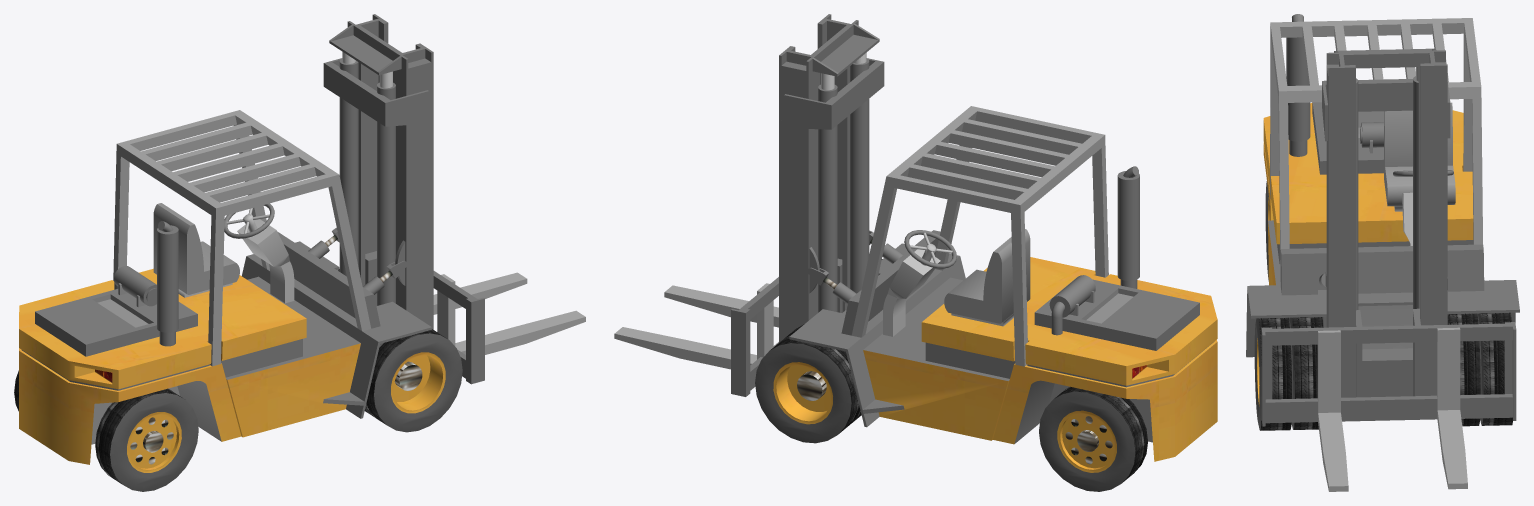
Rendered from forklift.glb.
The picture shows the model from 3 angles, left to right: view 1: azimuth 30°, elevation 25°; view 2: azimuth 150°, elevation 25°; view 3: azimuth 270°, elevation 25°; orthographic projection. The views are drawn at different scales.
Visible parts, largest first — view 1: Geom3D_5, Geom3D_6, Geom3D_17, Geom3D_7, Geom3D_24, Geom3D_12, Geom3D_18, Geom3D_4, Geom3D_23, Geom3D_10, Geom3D_11, Geom3D_25; view 2: Geom3D_5, Geom3D_6, Geom3D_17, Geom3D_7, Geom3D_24, Geom3D_12, Geom3D_18, Geom3D_4, Geom3D_23, Geom3D_10, Geom3D_25, Geom3D_11 (+1 smaller); view 3: Geom3D_5, Geom3D_17, Geom3D_6, Geom3D_18, Geom3D_25, Geom3D_7, Geom3D_24, Geom3D_4.
Part boxes in pixels (x1,y1,x2,y2): Geom3D_5: (22, 14, 484, 418); Geom3D_6: (19, 268, 360, 472); Geom3D_17: (113, 110, 371, 366); Geom3D_7: (91, 203, 339, 444); Geom3D_24: (365, 329, 462, 432); Geom3D_12: (110, 393, 198, 491); Geom3D_18: (433, 272, 585, 354); Geom3D_4: (178, 208, 294, 303); Geom3D_23: (391, 352, 445, 413); Geom3D_10: (14, 370, 182, 484); Geom3D_11: (130, 235, 392, 464); Geom3D_25: (339, 269, 446, 424); Geom3D_5: (731, 14, 1214, 427); Geom3D_6: (863, 257, 1217, 472); Geom3D_17: (851, 106, 1108, 366); Geom3D_7: (944, 229, 1152, 443); Geom3D_24: (755, 335, 860, 443); Geom3D_12: (1039, 391, 1135, 491); Geom3D_18: (614, 283, 778, 369); Geom3D_4: (883, 232, 1013, 336); Geom3D_23: (773, 362, 832, 424); Geom3D_10: (1054, 386, 1147, 482); Geom3D_25: (770, 259, 882, 433); Geom3D_11: (823, 239, 1112, 464); Geom3D_5: (1246, 14, 1519, 426); Geom3D_17: (1270, 18, 1482, 287); Geom3D_6: (1263, 103, 1473, 285); Geom3D_18: (1317, 327, 1467, 491); Geom3D_25: (1258, 312, 1512, 430); Geom3D_7: (1246, 102, 1515, 357); Geom3D_24: (1254, 313, 1513, 430); Geom3D_4: (1394, 192, 1412, 245).
Size of the model in its own units: 5.2 by 3.24 by 2.1.
Materials: 14 (6 with a texture image).
